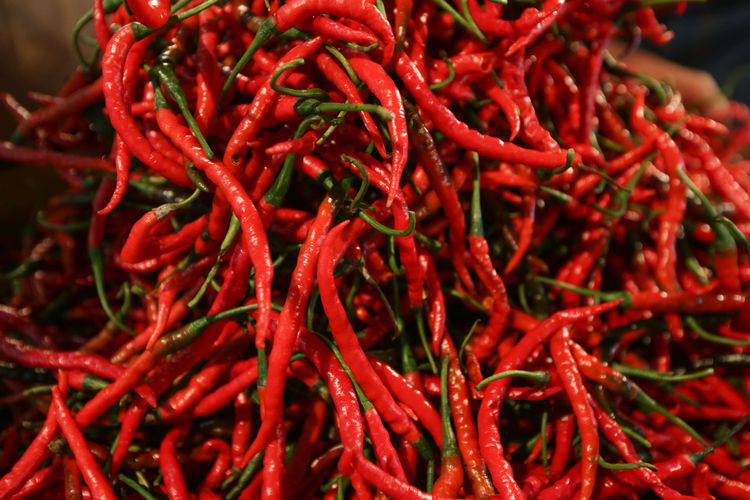Cabai: (217, 77, 559, 403)
